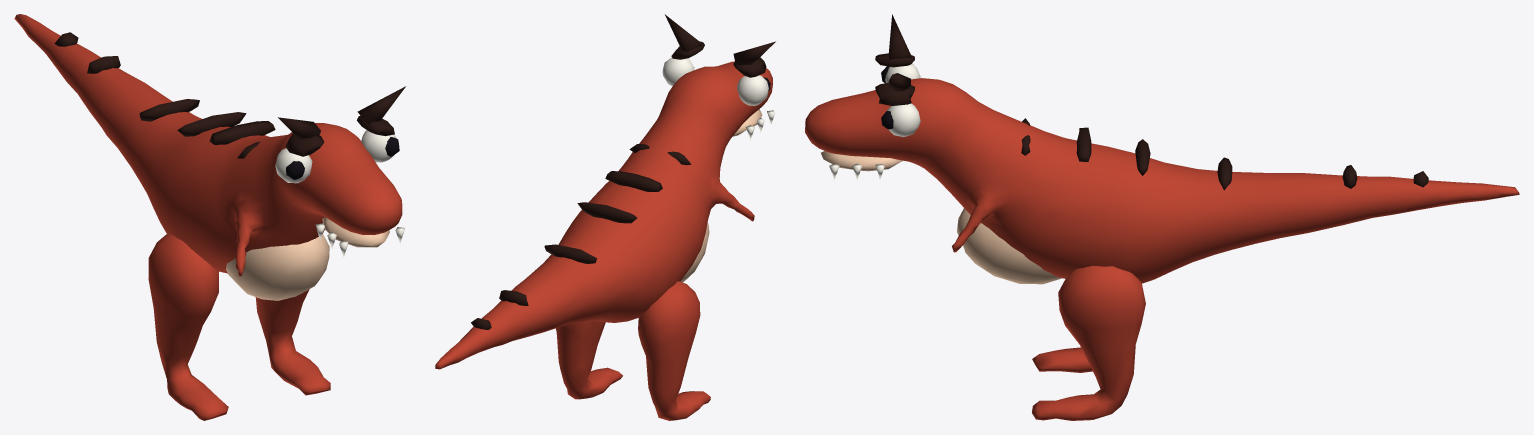
The model's file is Dino_Carnotaurus.fbx.
3 views of the same model, side by side, from view 1: azimuth 30°, elevation 25°; view 2: azimuth 150°, elevation 25°; view 3: azimuth 270°, elevation 25° (orthographic). The views are drawn at different scales.
Parts seen in each view (by area): view 1: Body, LegL, Accent, Belly, LegR, EyeWhite, Pupil; view 2: Body, LegL, Accent, LegR, EyeWhite, Belly; view 3: Body, LegR, Belly, Accent, EyeWhite, LegL.
Part boxes in pixels (x1=…): Body: x1=14, y1=14, x2=402, y2=276; LegL: x1=148, y1=233, x2=228, y2=420; Accent: x1=54, y1=32, x2=405, y2=158; Belly: x1=226, y1=217, x2=389, y2=300; LegR: x1=255, y1=289, x2=330, y2=395; EyeWhite: x1=275, y1=130, x2=404, y2=257; Pupil: x1=286, y1=137, x2=399, y2=179; Body: x1=435, y1=61, x2=772, y2=369; LegL: x1=638, y1=281, x2=710, y2=420; Accent: x1=471, y1=14, x2=775, y2=329; LegR: x1=556, y1=320, x2=622, y2=399; EyeWhite: x1=662, y1=57, x2=774, y2=139; Belly: x1=680, y1=109, x2=762, y2=282; Body: x1=805, y1=78, x2=1519, y2=283; LegR: x1=1032, y1=265, x2=1145, y2=420; Belly: x1=821, y1=151, x2=1061, y2=284; Accent: x1=875, y1=14, x2=1428, y2=190; EyeWhite: x1=829, y1=63, x2=920, y2=179; LegL: x1=1032, y1=347, x2=1092, y2=372.
Size of the model in its own units: 1.9 by 4.26 by 7.9.
